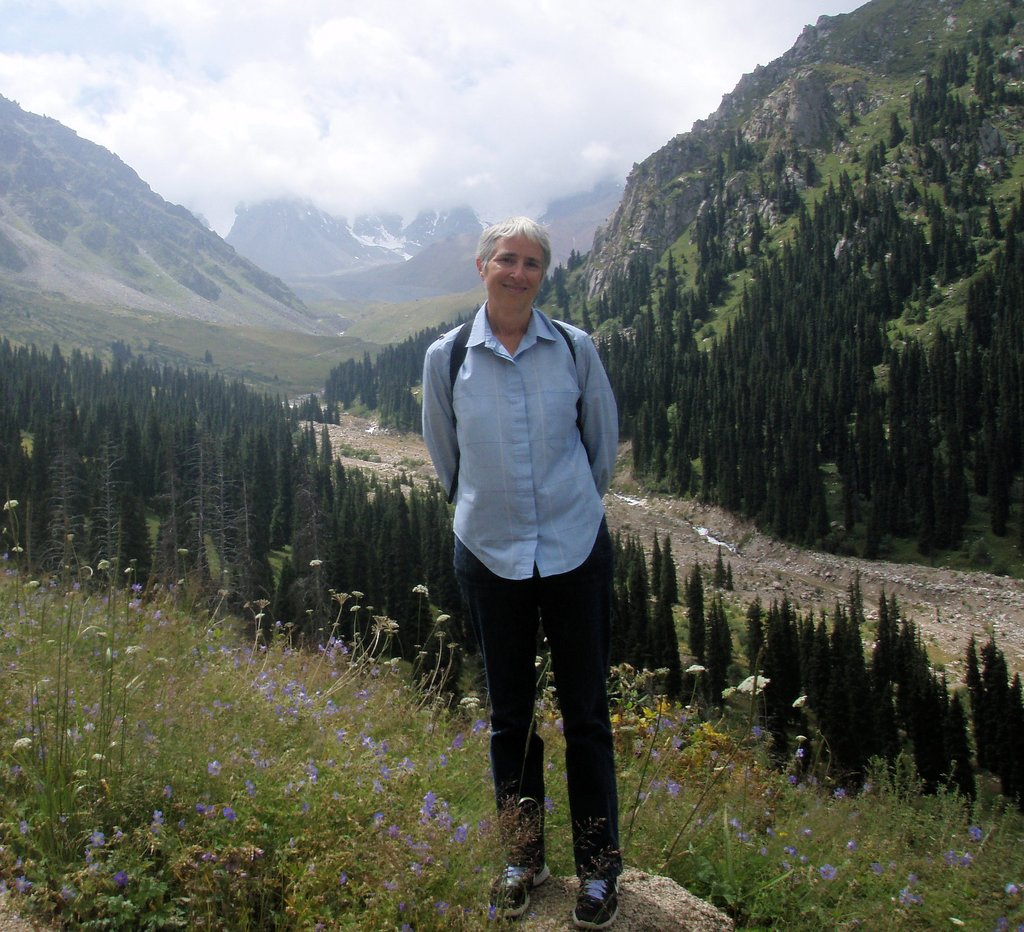Footwear: (485, 844, 551, 922), (573, 874, 621, 928)
